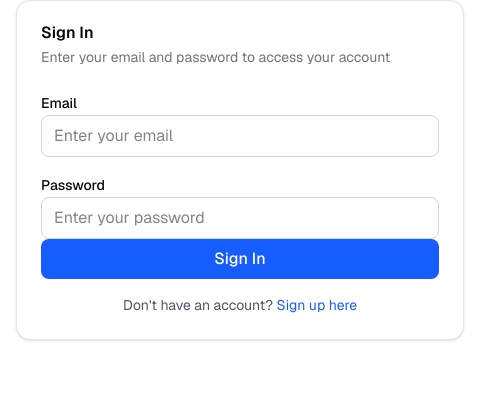
Test: Authentication Tests › LoginForm Component › displays error notification for invalid credentials
Type "test@example.com" into the field labelled "Email" at (240, 136), box [41,115,439,157]
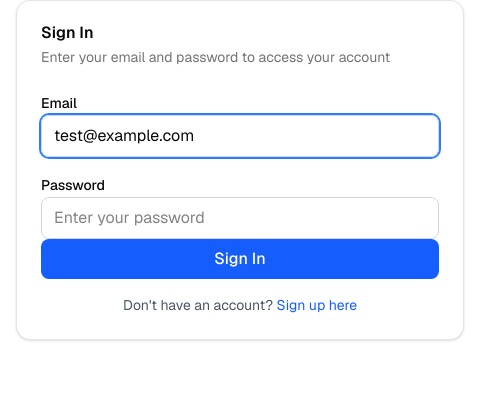
Type "wrongpassword" into the password field labelled "Password" at (240, 218), box [41,197,439,239]
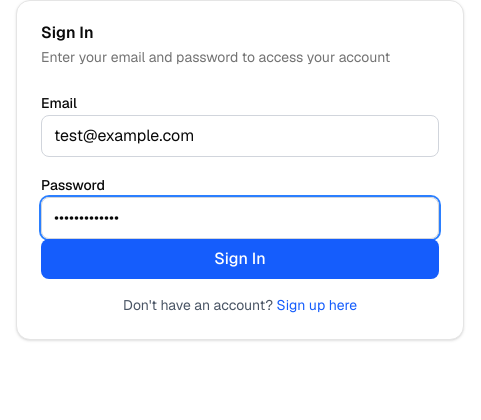
Click the button "Sign In" at (240, 259), box [41,239,439,279]
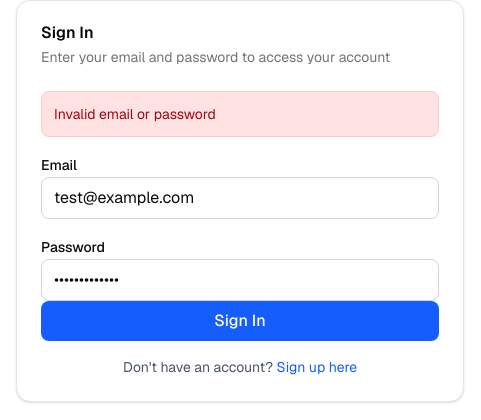
Expected: the text "Invalid email or password" is shown, [41,91,439,137]
